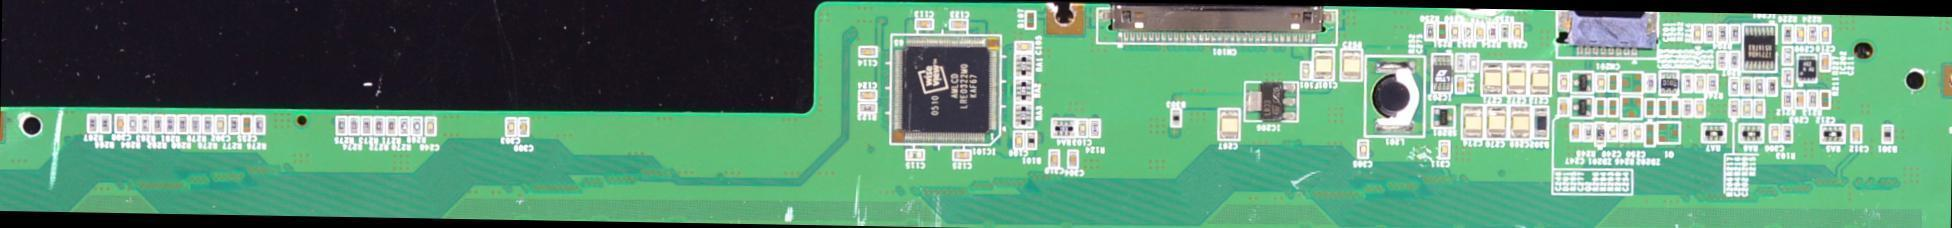Capacitor: (1508, 105, 1530, 140), (1460, 105, 1482, 139), (1528, 60, 1548, 94), (1218, 110, 1240, 140), (1485, 105, 1504, 140), (1341, 49, 1362, 78), (1505, 63, 1525, 93), (1482, 64, 1501, 93), (1313, 50, 1331, 80), (114, 114, 124, 133), (1048, 151, 1059, 168), (914, 18, 933, 28), (1692, 23, 1700, 42), (954, 149, 970, 160), (906, 150, 922, 160), (1557, 74, 1566, 91), (1077, 120, 1085, 137), (423, 117, 432, 134), (506, 118, 514, 135), (1013, 131, 1022, 147), (1358, 139, 1367, 156), (1695, 74, 1703, 91), (1456, 75, 1464, 92), (1632, 123, 1641, 138), (1439, 141, 1446, 158), (1450, 23, 1458, 40), (1558, 101, 1568, 113), (215, 115, 222, 134), (1595, 74, 1602, 90), (1068, 153, 1075, 169), (857, 48, 873, 56), (860, 90, 874, 99), (1771, 126, 1780, 139), (949, 18, 962, 26), (1015, 44, 1029, 51), (520, 120, 527, 137), (241, 114, 248, 132), (1512, 25, 1520, 39), (1610, 123, 1616, 140), (1743, 101, 1749, 116), (1821, 54, 1827, 69), (1571, 125, 1577, 138), (1475, 25, 1482, 39), (1755, 102, 1761, 115), (1797, 29, 1803, 41), (1795, 93, 1800, 108), (1852, 128, 1857, 143), (1821, 27, 1827, 39), (1695, 101, 1701, 115)
IC: (891, 35, 996, 144), (1246, 82, 1298, 121), (1744, 26, 1774, 68), (1432, 52, 1448, 90), (1798, 57, 1815, 81)
Resistor: (227, 113, 237, 134), (1581, 124, 1592, 139), (1820, 90, 1830, 106), (384, 118, 393, 135), (1643, 73, 1652, 91), (1620, 123, 1628, 141), (138, 116, 147, 133), (99, 116, 109, 131), (1740, 77, 1749, 94), (1727, 25, 1736, 41), (1462, 23, 1470, 39), (1424, 23, 1433, 39), (1647, 124, 1653, 147), (1753, 79, 1761, 94), (1807, 91, 1816, 106), (1783, 90, 1790, 107), (1782, 124, 1789, 142), (1782, 46, 1789, 63), (1681, 77, 1688, 93), (857, 105, 873, 112), (1091, 119, 1098, 136), (336, 118, 344, 134), (165, 115, 173, 131), (152, 116, 159, 132), (202, 117, 209, 133), (1717, 26, 1724, 42), (1500, 22, 1507, 39), (1487, 25, 1495, 39), (1607, 101, 1615, 116), (254, 115, 262, 130), (87, 114, 95, 130), (189, 117, 197, 132), (350, 120, 357, 135), (1709, 74, 1716, 91), (1023, 10, 1030, 28), (1669, 101, 1677, 114), (1607, 74, 1614, 90), (398, 118, 405, 133), (411, 119, 417, 135), (128, 116, 134, 131), (1810, 25, 1816, 40), (1706, 25, 1711, 42), (1784, 70, 1790, 84), (1730, 78, 1737, 92), (372, 119, 379, 133), (1718, 51, 1724, 65), (1647, 99, 1652, 115), (1472, 54, 1477, 70), (1684, 102, 1690, 115), (361, 120, 367, 132), (179, 119, 185, 132), (1731, 53, 1737, 66), (1767, 80, 1772, 95), (1456, 53, 1462, 69), (1730, 102, 1736, 115), (1784, 26, 1789, 38), (1657, 101, 1661, 114), (1596, 101, 1600, 113)
